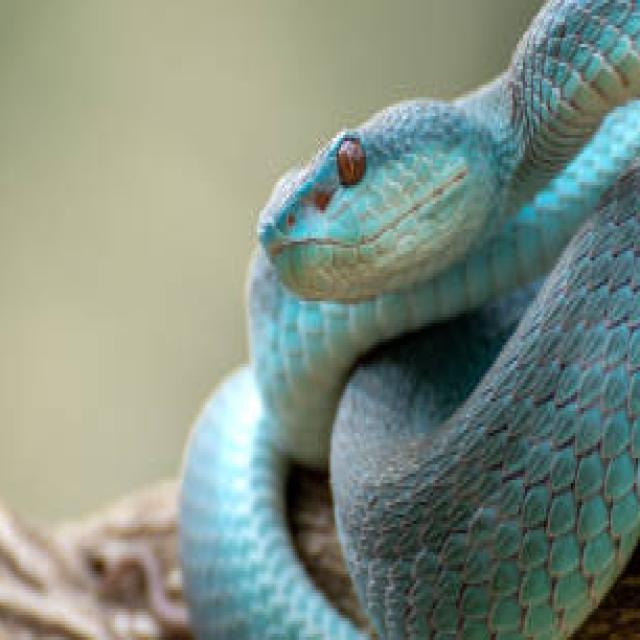Snake: (175, 0, 640, 640)
